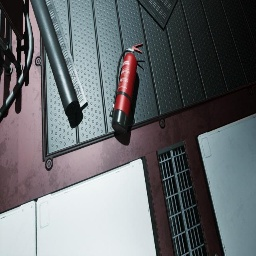FireExtinguisher ]: (110, 43, 143, 135)
